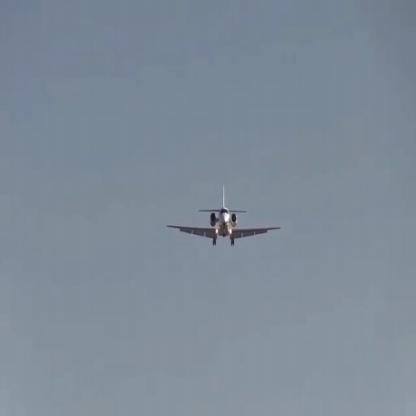CIV_Plane: (166, 185, 282, 247)
